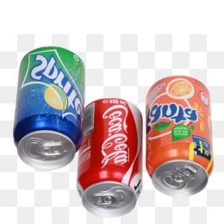can: (10, 43, 86, 173), (142, 73, 217, 199), (75, 95, 143, 220)
